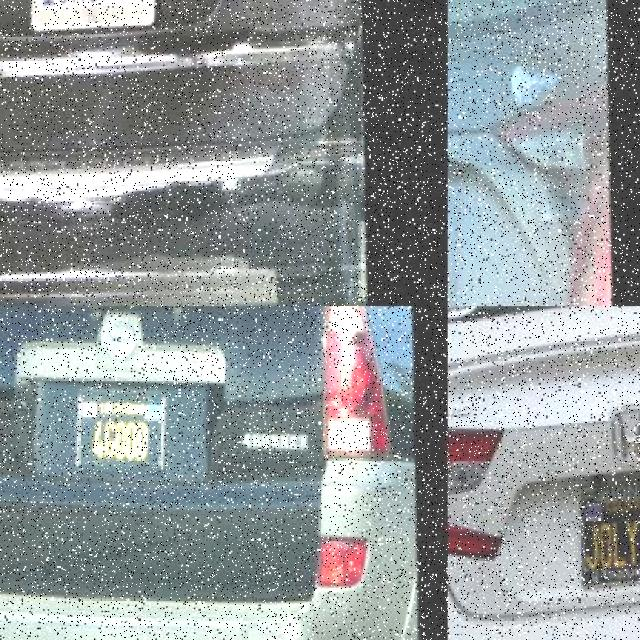licenseplate: (74, 378, 174, 482), (24, 0, 164, 71), (448, 176, 517, 306), (574, 465, 640, 586)
